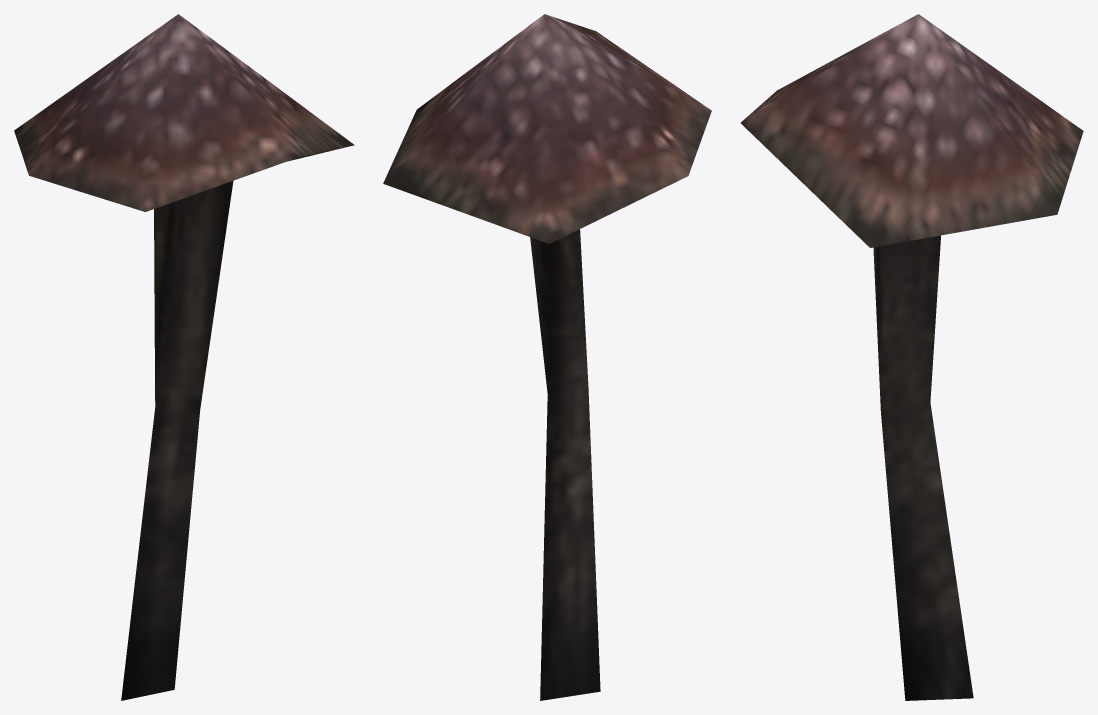
File: Bigshrooms1_LOD1.fbx
The picture shows the model from 3 angles, left to right: view 1: azimuth 30°, elevation 25°; view 2: azimuth 150°, elevation 25°; view 3: azimuth 270°, elevation 25°; orthographic projection. The views are drawn at different scales.
Visible parts, largest first — view 1: Shrooms1_100tris_polySurface2; view 2: Shrooms1_100tris_polySurface2; view 3: Shrooms1_100tris_polySurface2.
Part boxes in pixels (x1,y1,x2,y2): Shrooms1_100tris_polySurface2: (14, 14, 354, 700); Shrooms1_100tris_polySurface2: (383, 14, 711, 700); Shrooms1_100tris_polySurface2: (740, 14, 1083, 700).
Bounding box in the file's own units: 1.5 × 3.2 × 1.43.
